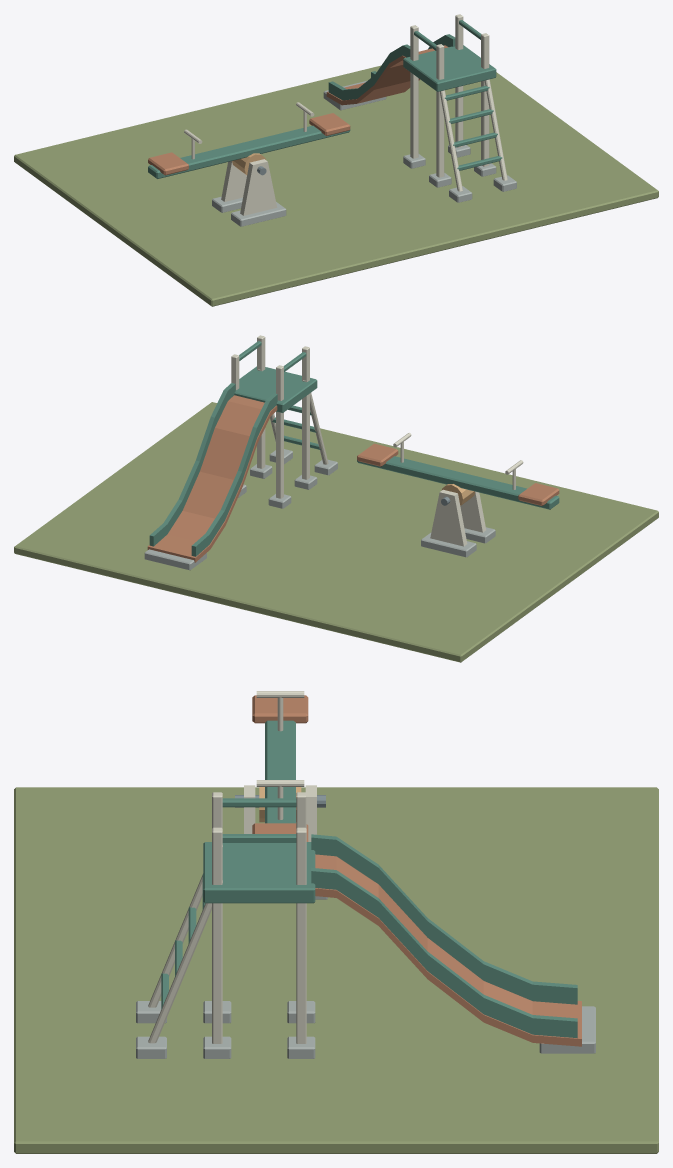
3 renders of one model, top to bottom at view 1: azimuth 30°, elevation 25°; view 2: azimuth 150°, elevation 25°; view 3: azimuth 270°, elevation 25°, orthographic. The views are drawn at different scales.
Visible parts, largest first — view 1: Base_Runtime, Beam_Runtime; view 2: Base_Runtime, Beam_Runtime; view 3: Base_Runtime, Beam_Runtime.
Boxes of the visible parts, <box> form: Base_Runtime: <box>14,14,658,306</box>; Beam_Runtime: <box>148,102,350,178</box>; Base_Runtime: <box>14,335,658,662</box>; Beam_Runtime: <box>357,433,559,509</box>; Base_Runtime: <box>14,785,658,1153</box>; Beam_Runtime: <box>252,691,308,841</box>.
Bounding box in the file's own units: 6 × 1.86 × 4.6.
